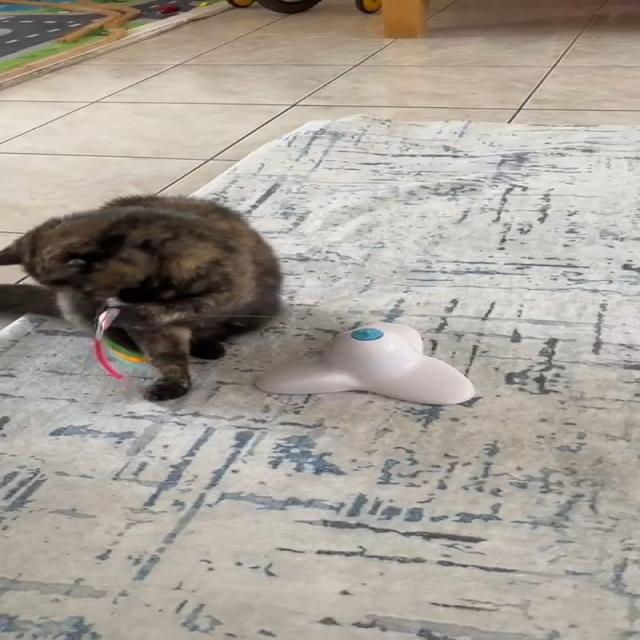authorized: (0, 192, 284, 402)
